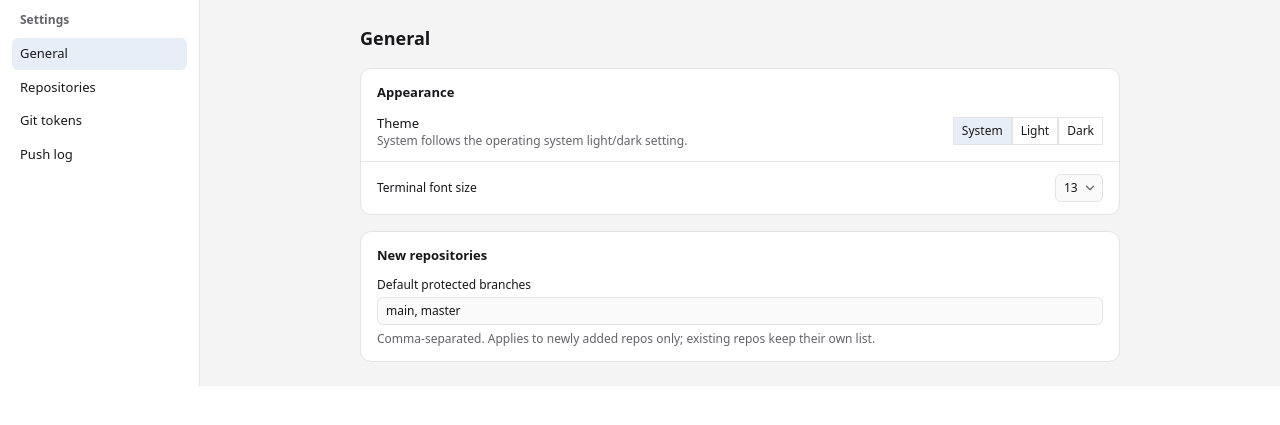
General section › shows the error when saving fails
Replace the text in the field labelled "Default protected branches" with "x" at (740, 311), box [377,297,1103,325]
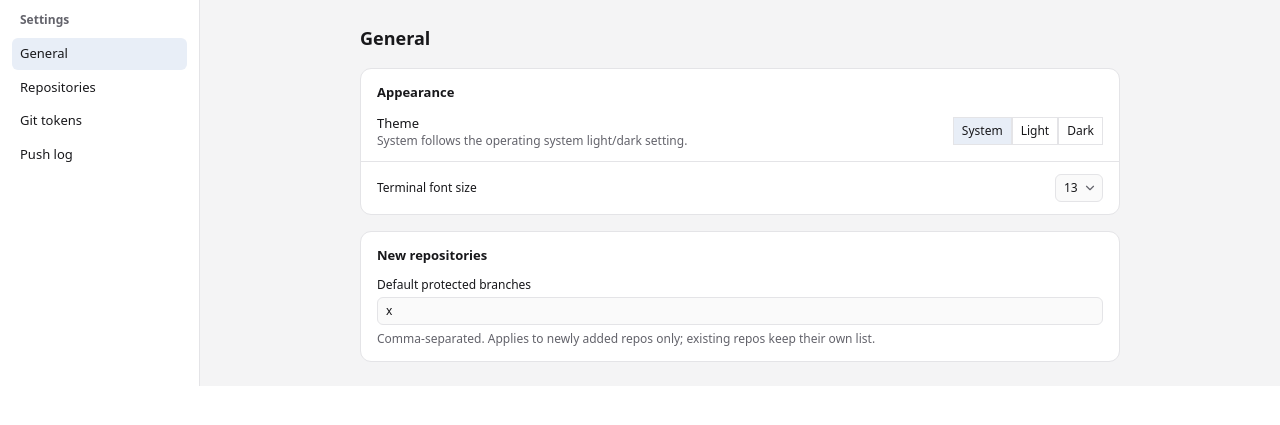
Leave the field labelled "Default protected branches", box [377,297,1103,325]
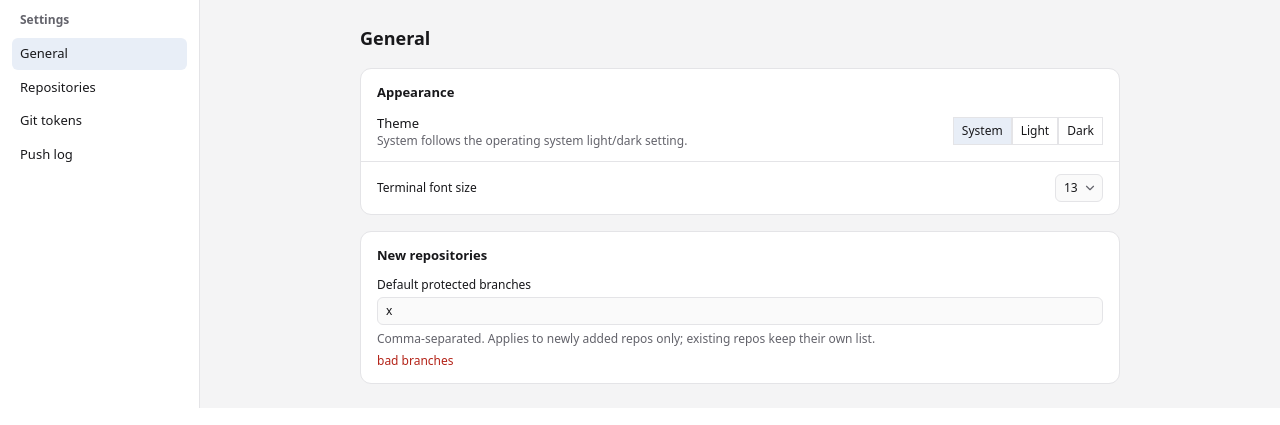
expect the text "bad branches" is shown: met, box [377,352,454,369]
